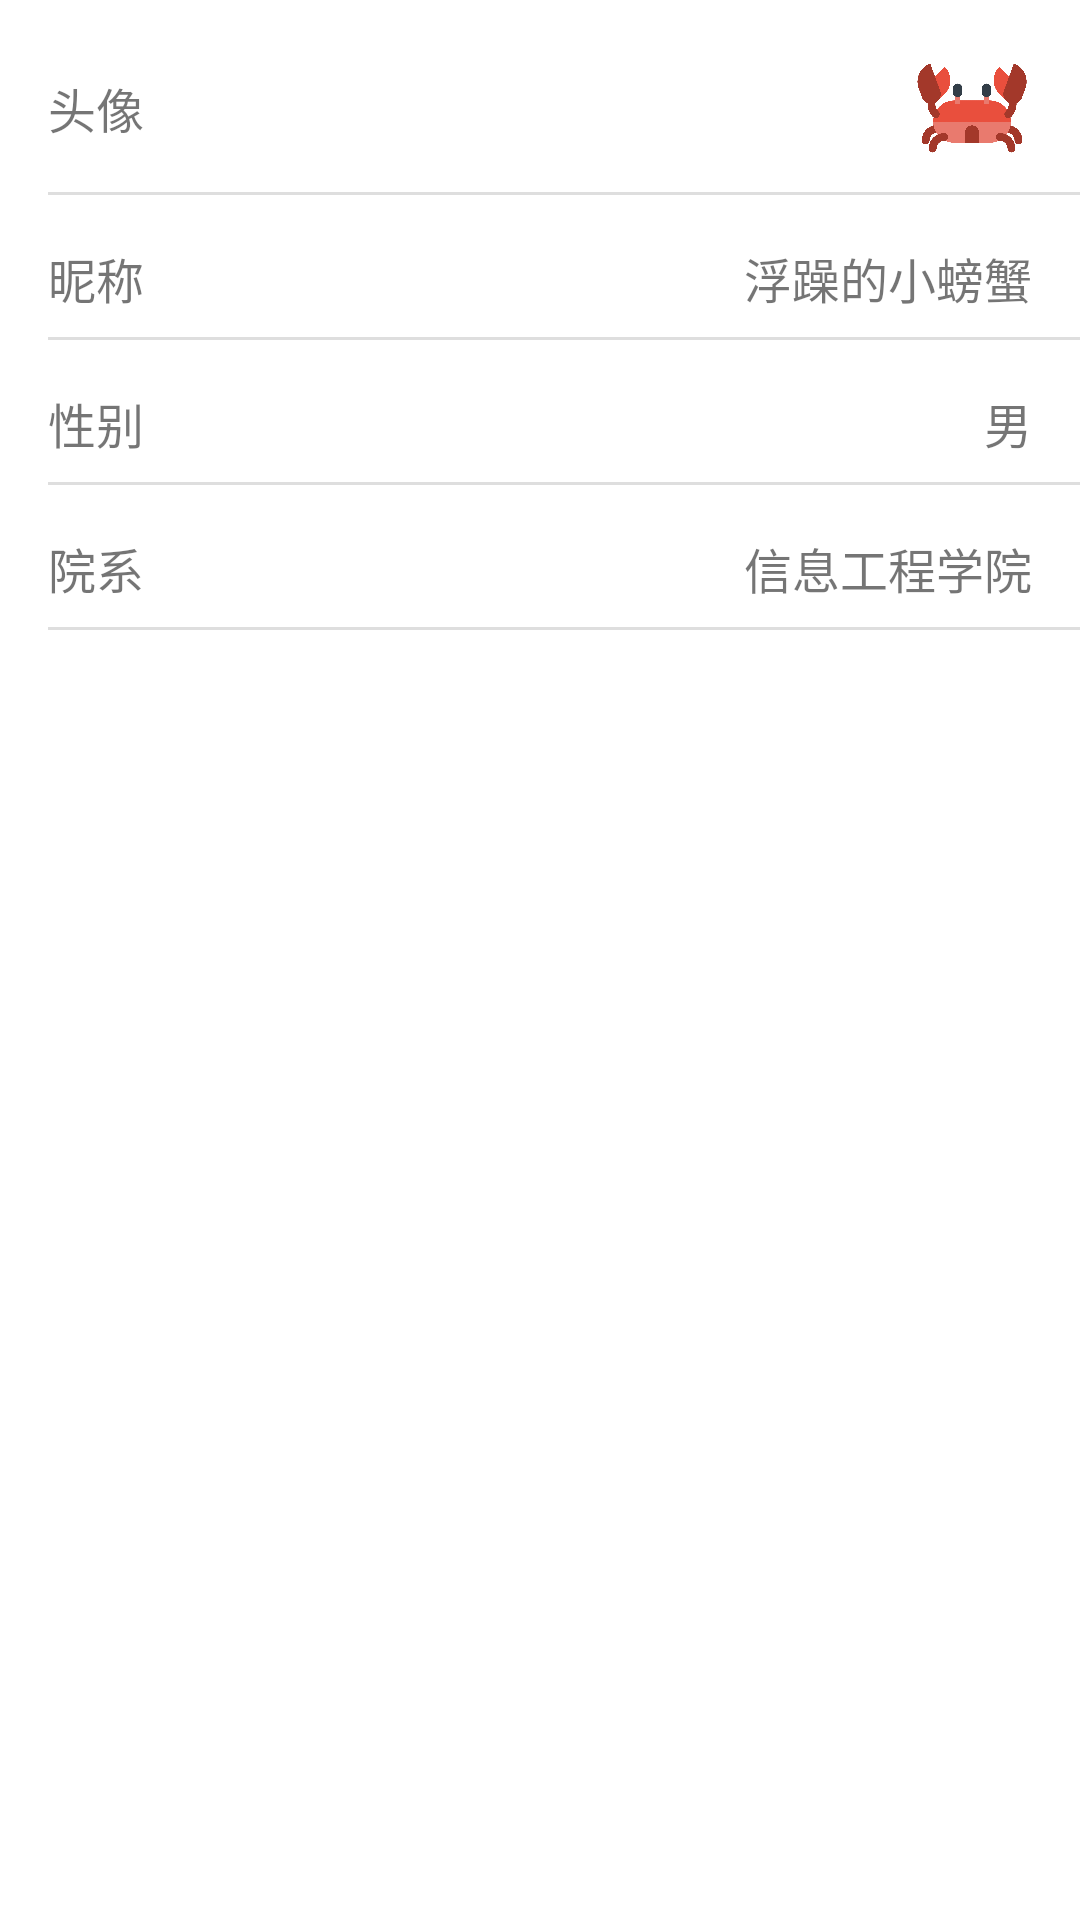

Icons on this 1080px x 1920px Android screen, each with the point to tap as (x,y):
crub: (972,108)
